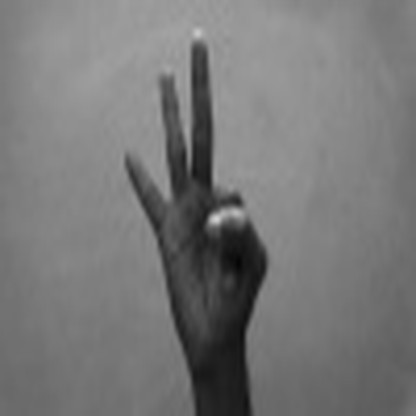f: (108, 22, 273, 364)
